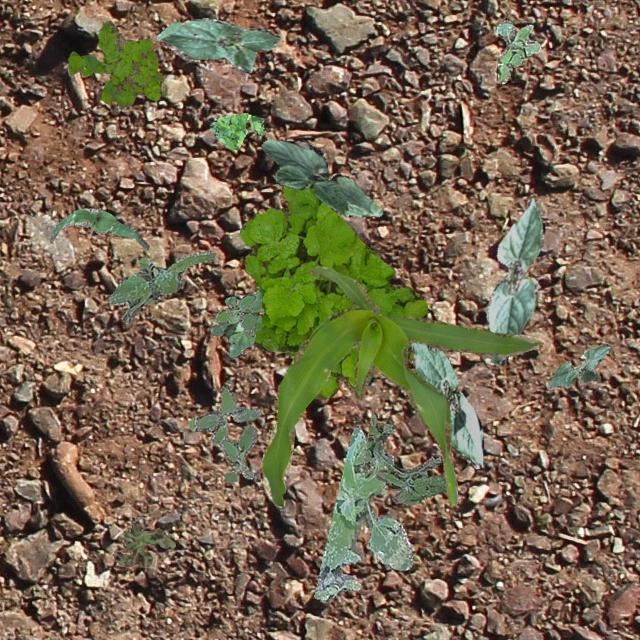crop: (260, 264, 542, 506), (486, 196, 544, 364), (262, 138, 382, 216), (410, 340, 482, 468), (156, 17, 278, 72), (49, 208, 148, 250), (546, 342, 610, 387)
weed: (238, 184, 428, 398), (312, 426, 412, 598), (68, 20, 162, 106), (362, 412, 446, 504), (108, 250, 214, 322), (188, 384, 260, 482), (208, 290, 260, 356), (112, 520, 174, 566), (496, 19, 538, 82), (208, 112, 264, 148), (212, 292, 258, 334)
